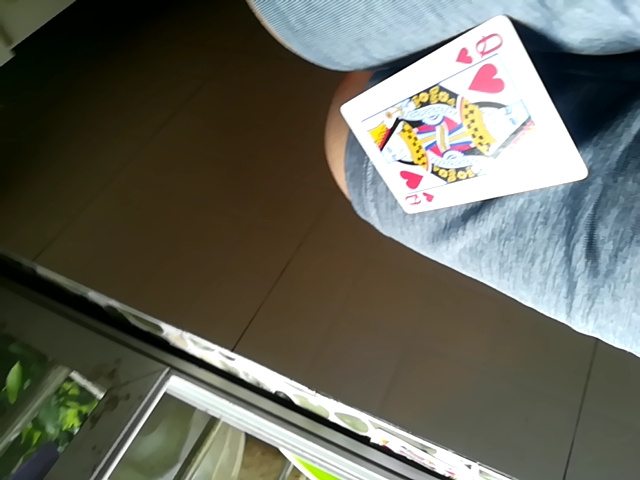hx q: (331, 18, 586, 217)
